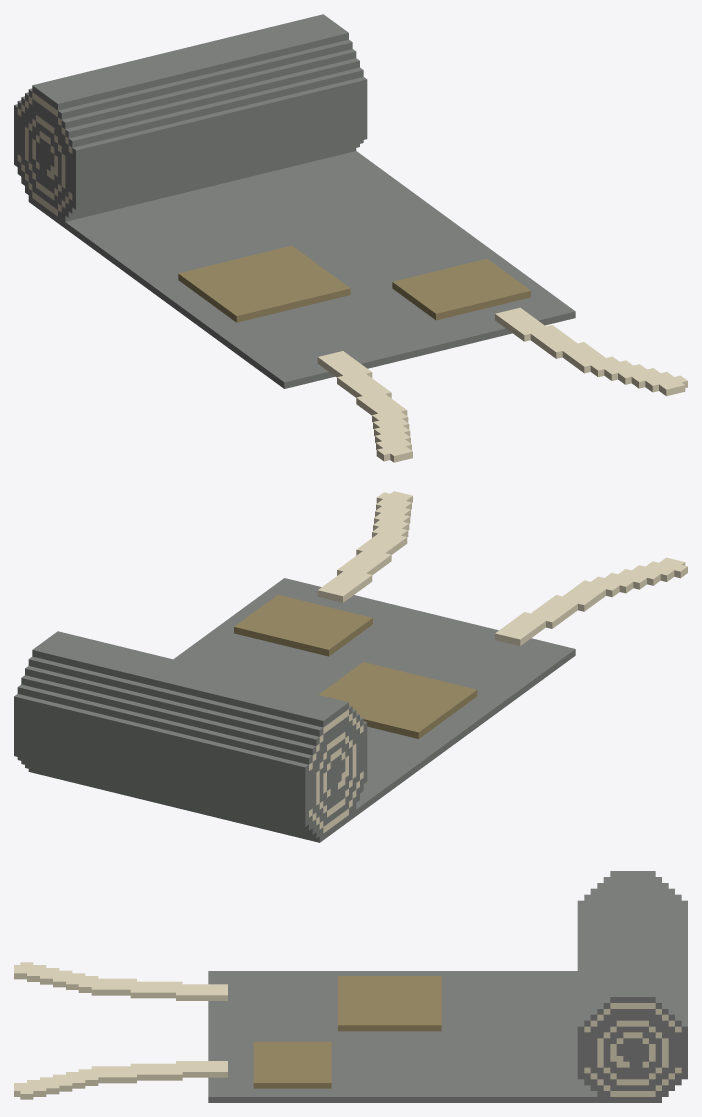
Rendered from bellywrap.glb.
The picture shows the model from 3 angles, top to bottom: view 1: azimuth 30°, elevation 25°; view 2: azimuth 150°, elevation 25°; view 3: azimuth 270°, elevation 25°; orthographic projection. The views are drawn at different scales.
Visible parts, largest first — view 1: bellywrap:compound; view 2: bellywrap:compound; view 3: bellywrap:compound.
Boxes of the visible parts, <box> form: bellywrap:compound: <box>14,14,687,462</box>; bellywrap:compound: <box>14,491,687,842</box>; bellywrap:compound: <box>14,871,687,1102</box>.
Bounding box in the file's own units: 0.192 × 0.072 × 0.416.
